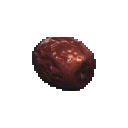gd: (26, 25, 108, 107)
